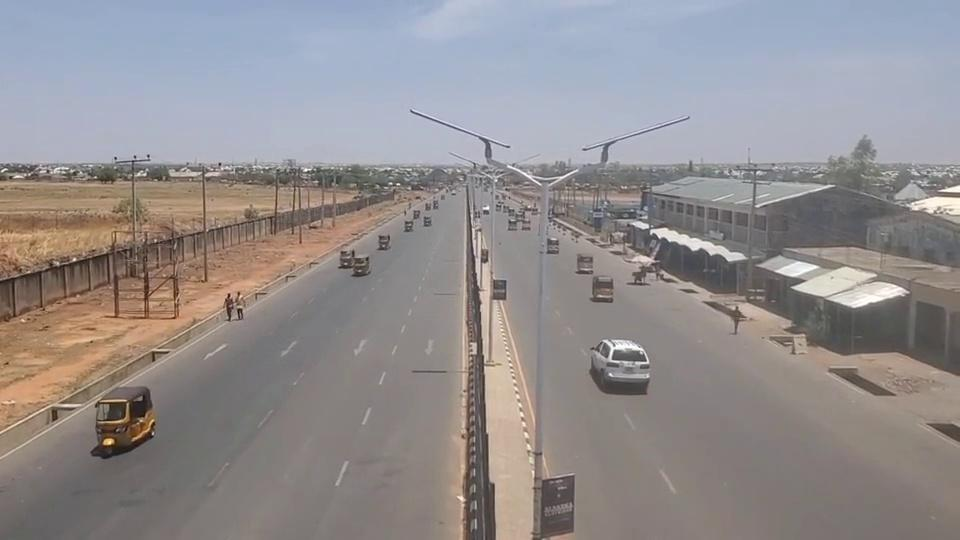car: (591, 336, 652, 389)
keke: (94, 385, 156, 453), (351, 255, 371, 276), (339, 249, 355, 268)
